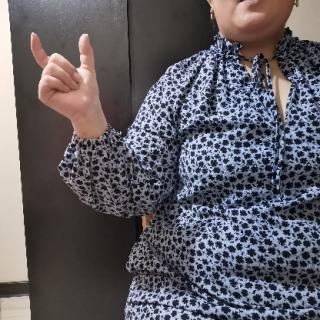NOON: (27, 27, 104, 122)
